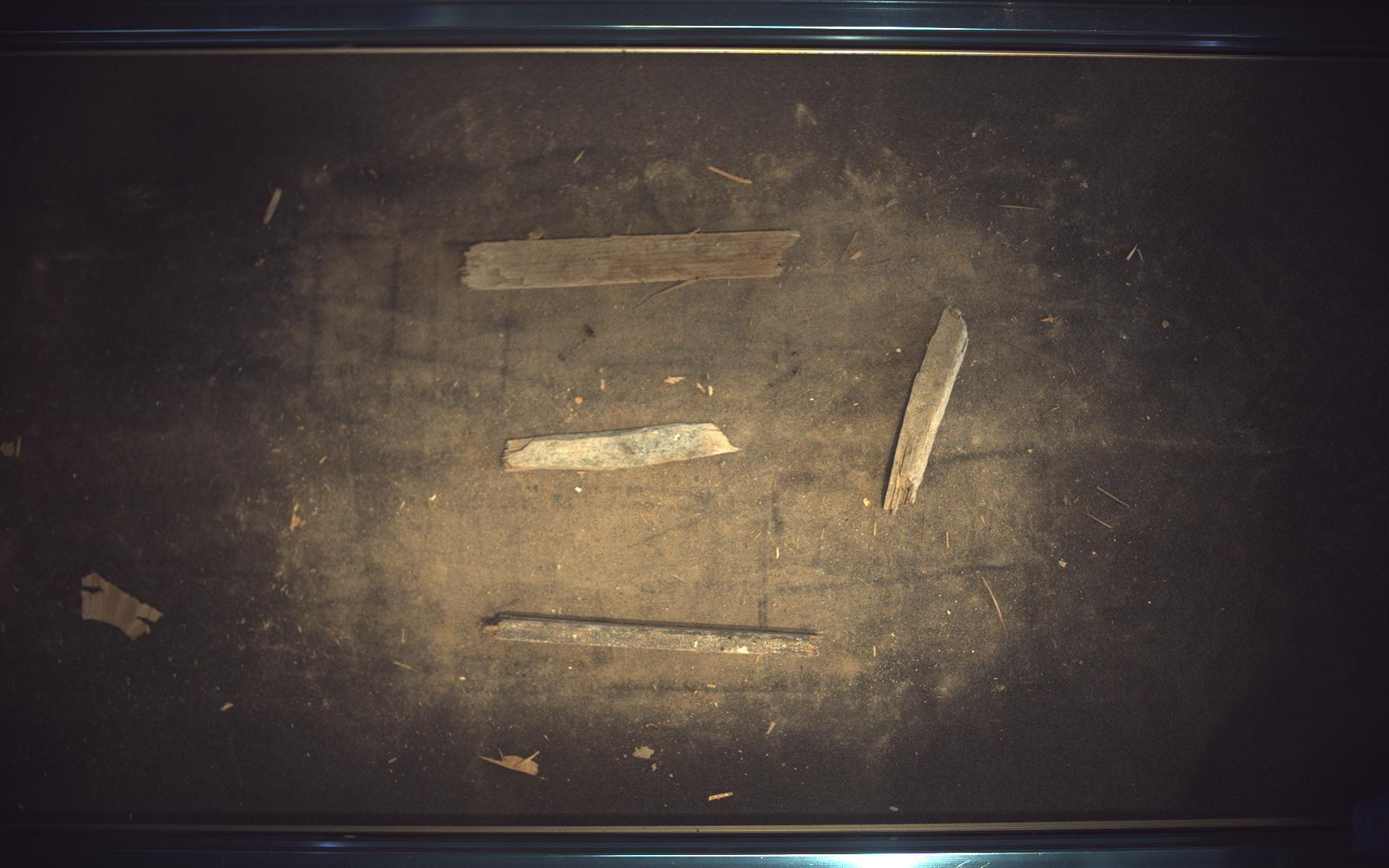wood: (462, 229, 801, 289), (885, 306, 969, 511), (485, 613, 822, 657), (503, 422, 739, 472)
